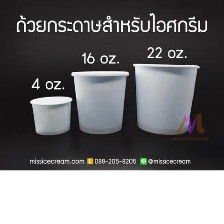paper_cup: (128, 59, 203, 138), (66, 66, 132, 137), (26, 92, 75, 138)
